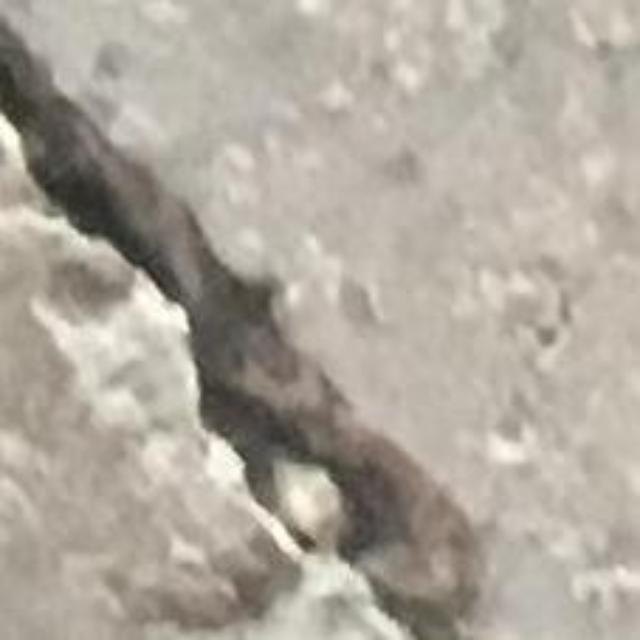crack: (0, 15, 479, 639)
